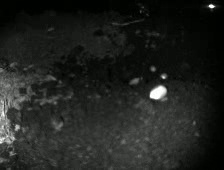corn: (146, 84, 170, 103), (127, 75, 141, 88), (147, 62, 160, 74), (157, 71, 170, 80)
